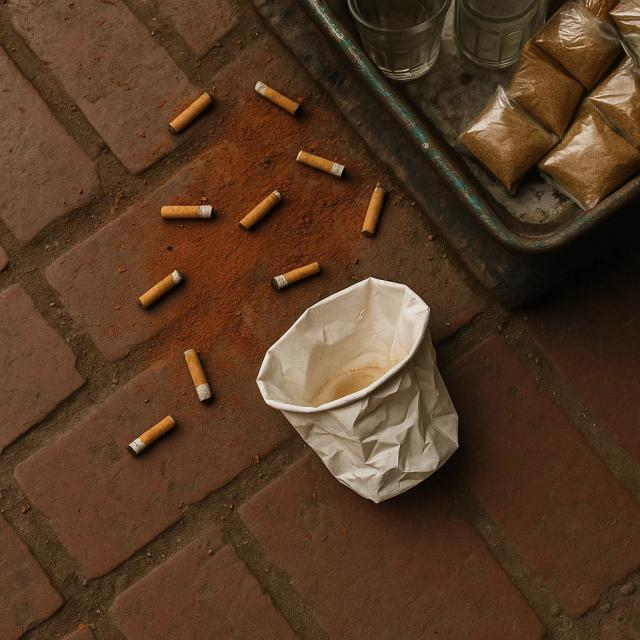paper: (255, 279, 468, 500)
